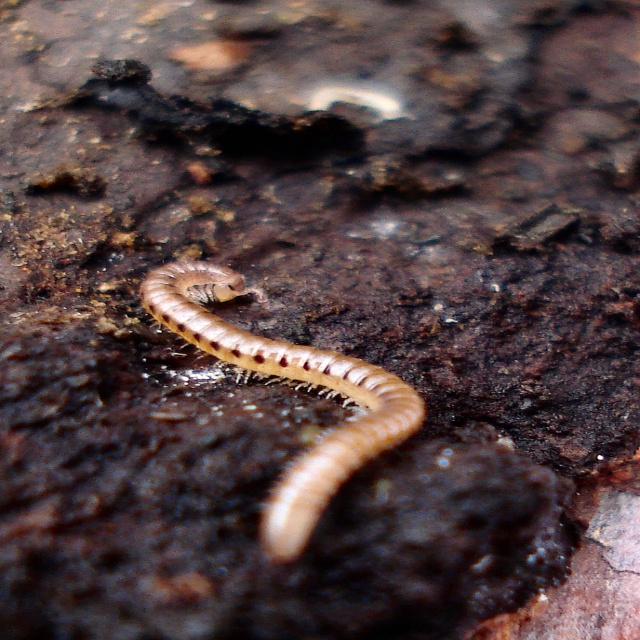Centipede: (138, 260, 424, 562)
